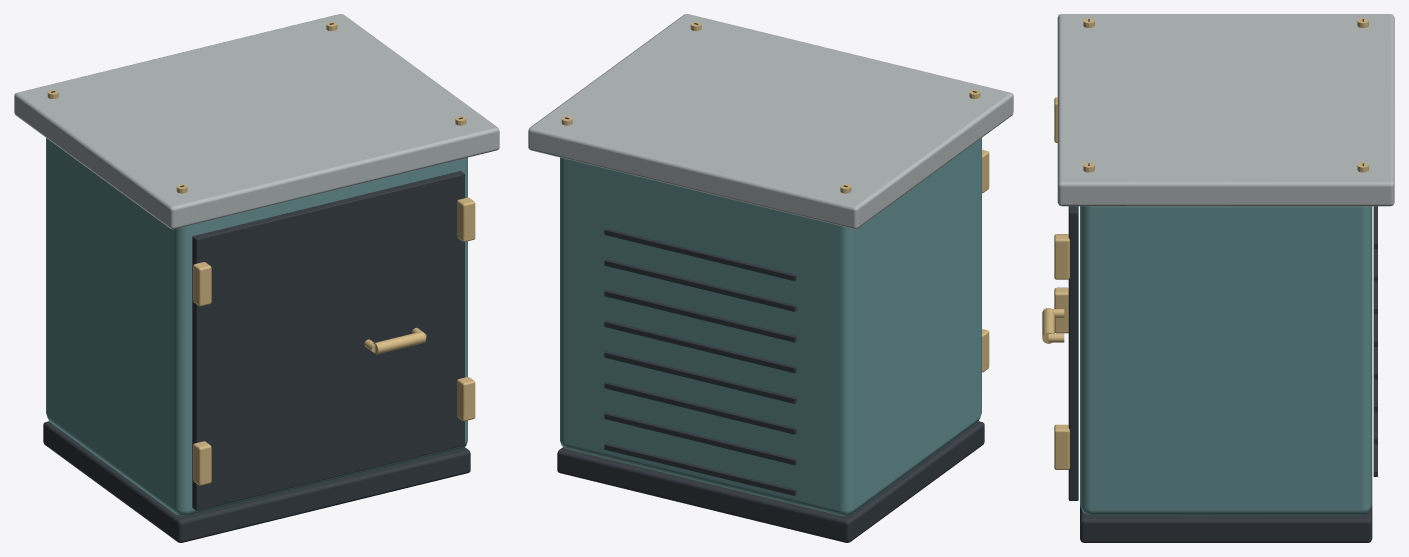
File: projector-pedestal.glb
3 views of the same model, side by side, from view 1: azimuth 30°, elevation 25°; view 2: azimuth 150°, elevation 25°; view 3: azimuth 270°, elevation 25° (orthographic). The views are drawn at different scales.
Parts seen in each view (by area): view 1: abandoned-cinema-and-projection-booth-projector-pedestal; view 2: abandoned-cinema-and-projection-booth-projector-pedestal; view 3: abandoned-cinema-and-projection-booth-projector-pedestal.
Boxes of the visible parts, x1,y1,x2,y2 form: abandoned-cinema-and-projection-booth-projector-pedestal: [14, 14, 499, 542]; abandoned-cinema-and-projection-booth-projector-pedestal: [528, 14, 1013, 542]; abandoned-cinema-and-projection-booth-projector-pedestal: [1042, 14, 1394, 542].
Size of the model in its own units: 0.9 by 0.924 by 0.784.
